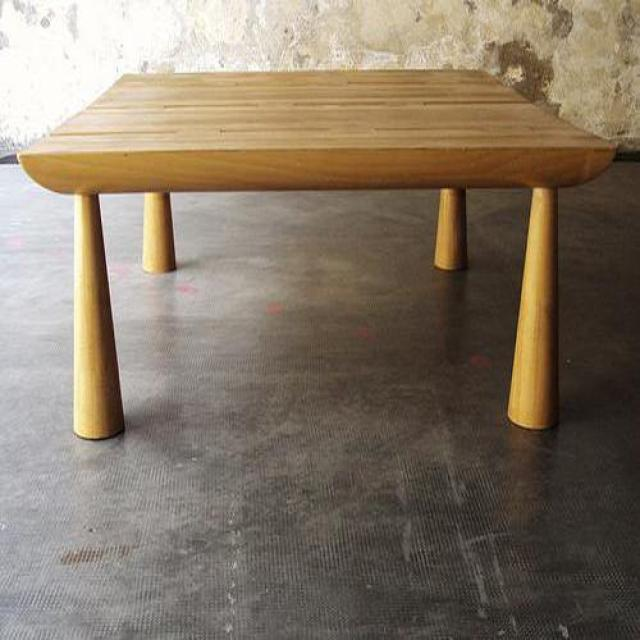table: (18, 69, 617, 443)
